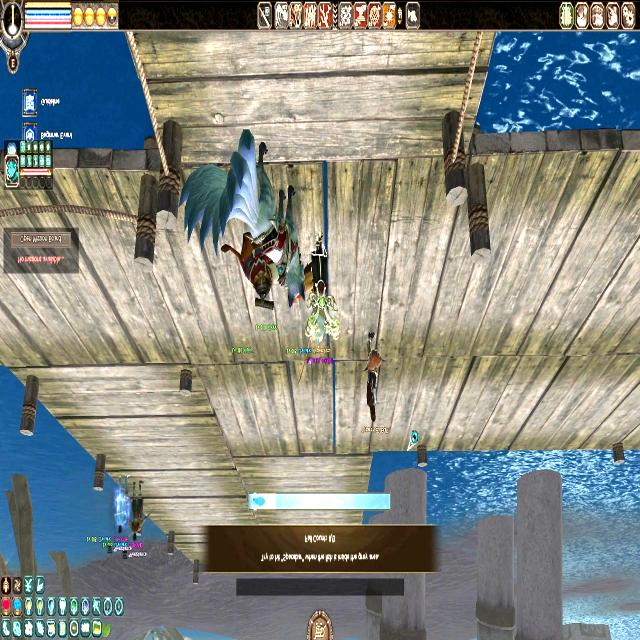box: (258, 493, 276, 509)
fishes: (252, 492, 265, 510)
